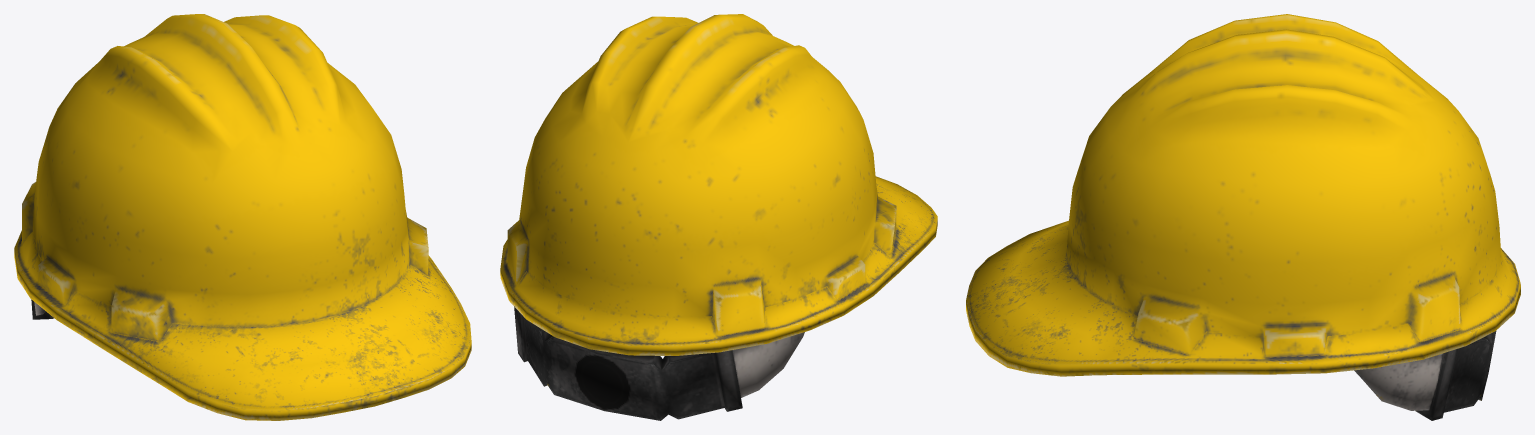
The model's file is construction-helmet.fbx.
3 renders of one model, left to right at view 1: azimuth 30°, elevation 25°; view 2: azimuth 150°, elevation 25°; view 3: azimuth 270°, elevation 25°, orthographic. The views are drawn at different scales.
Parts seen in each view (by area): view 1: Hats; view 2: Hats; view 3: Hats.
Part boxes in pixels (x1,y1,x2,y2): Hats: (14,14,471,420); Hats: (500,14,937,420); Hats: (966,14,1520,420).
Bounding box in the file's own units: 0.2122 × 0.1925 × 0.2829.
